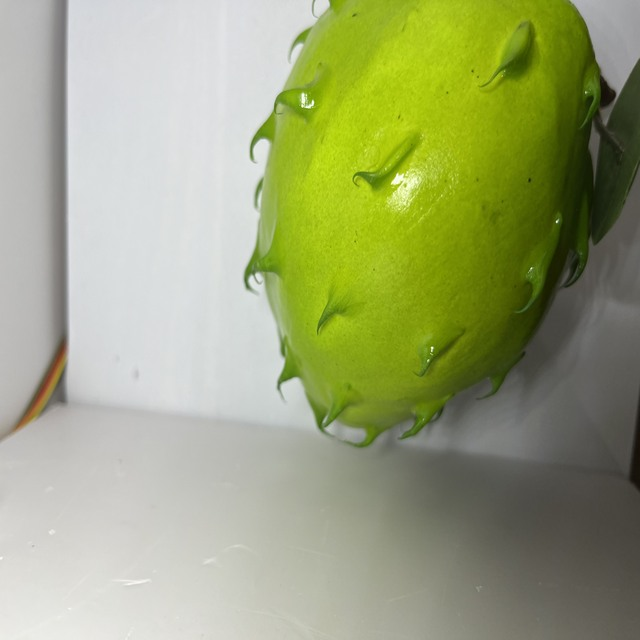Man cau: (236, 0, 629, 460)
